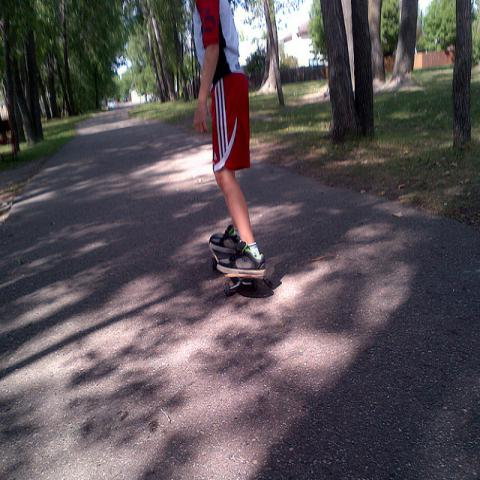car: (107, 100, 116, 111)
